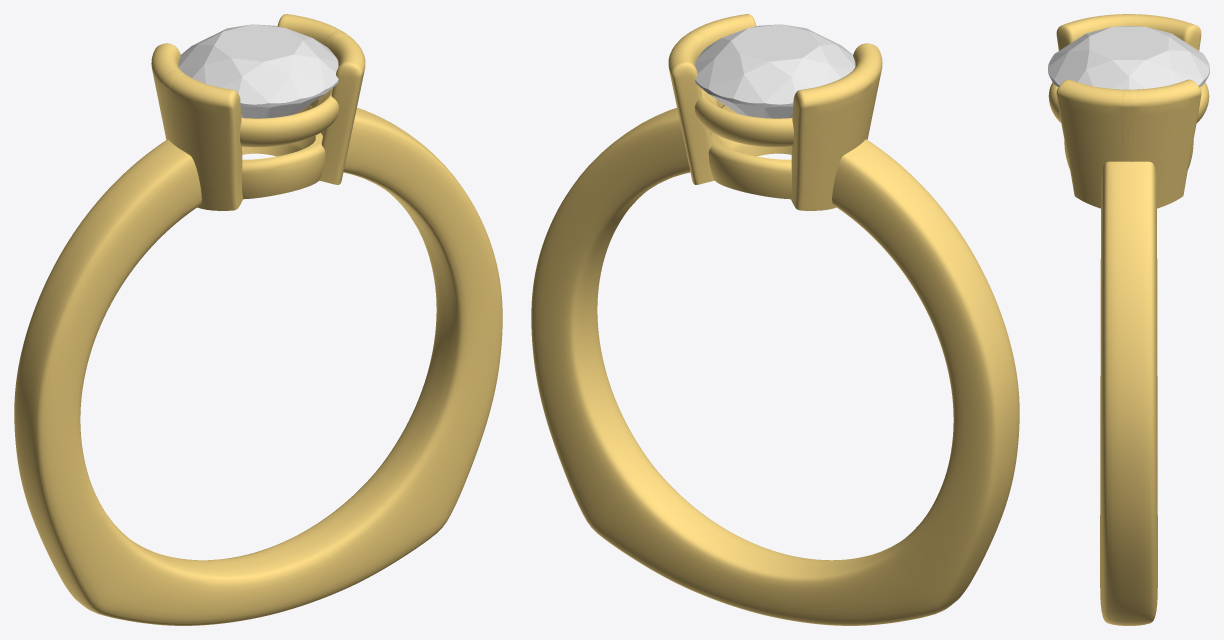
The model's file is diamond-round-yellowgold-halfmoonbezel-europeanshank-nosidestones.glb.
The picture shows the model from 3 angles, left to right: view 1: azimuth 30°, elevation 25°; view 2: azimuth 150°, elevation 25°; view 3: azimuth 270°, elevation 25°; orthographic projection. The views are drawn at different scales.
Visible parts, largest first — view 1: Round European Shank Half moon bezel, Roundstone; view 2: Round European Shank Half moon bezel, Roundstone; view 3: Round European Shank Half moon bezel, Roundstone.
Boxes of the visible parts, x1,y1,x2,y2 form: Round European Shank Half moon bezel: (14, 14, 502, 625); Roundstone: (178, 24, 338, 118); Round European Shank Half moon bezel: (531, 14, 1019, 625); Roundstone: (695, 24, 855, 118); Round European Shank Half moon bezel: (1048, 14, 1209, 625); Roundstone: (1048, 26, 1209, 89).
Size of the model in its own units: 20.7 by 23.81 by 6.44.
